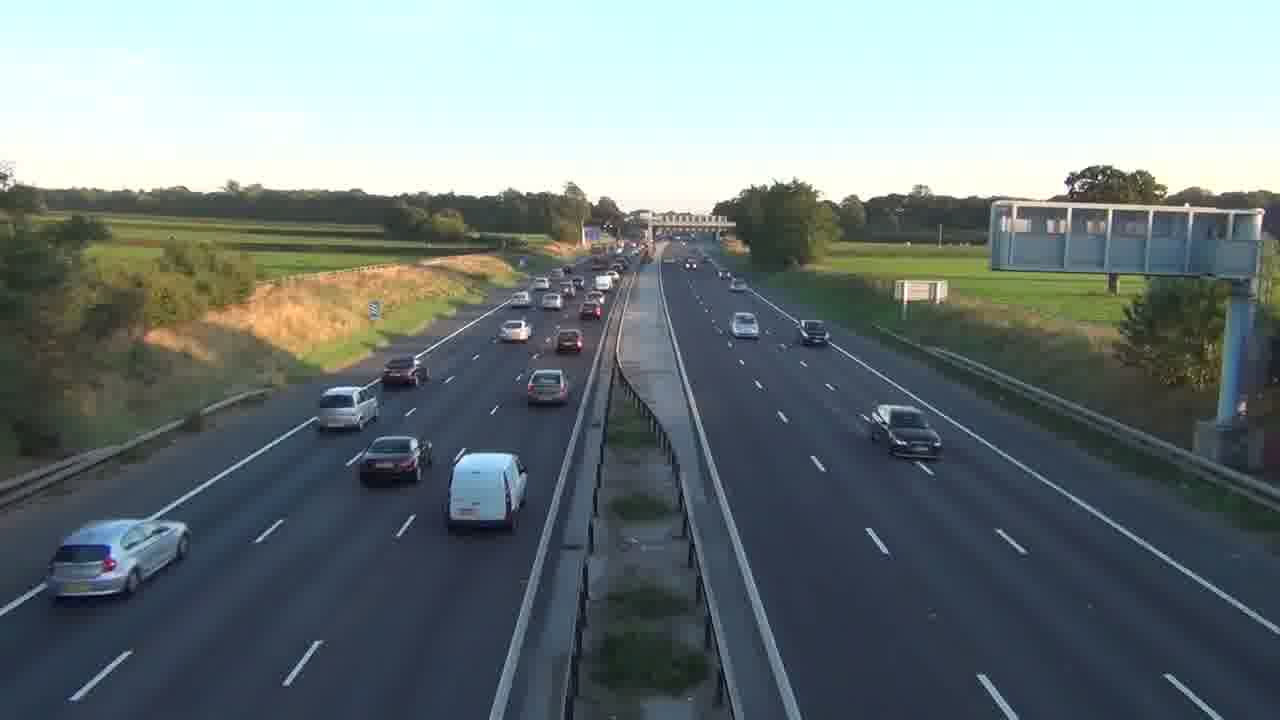car: (46, 517, 191, 601), (349, 433, 431, 485), (868, 403, 943, 458), (358, 434, 425, 486), (382, 354, 431, 389), (525, 368, 569, 406), (497, 318, 533, 343), (730, 311, 760, 341), (555, 328, 584, 354)
truck: (445, 449, 529, 532)
